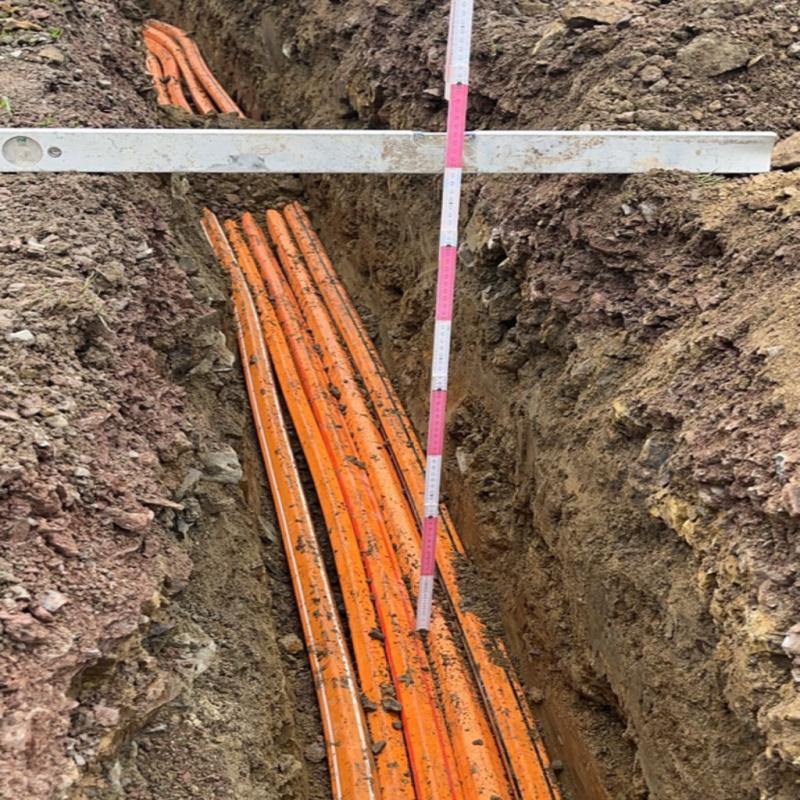Orang-Speednetrohrchen: (212, 218, 560, 800), (127, 18, 255, 120)
